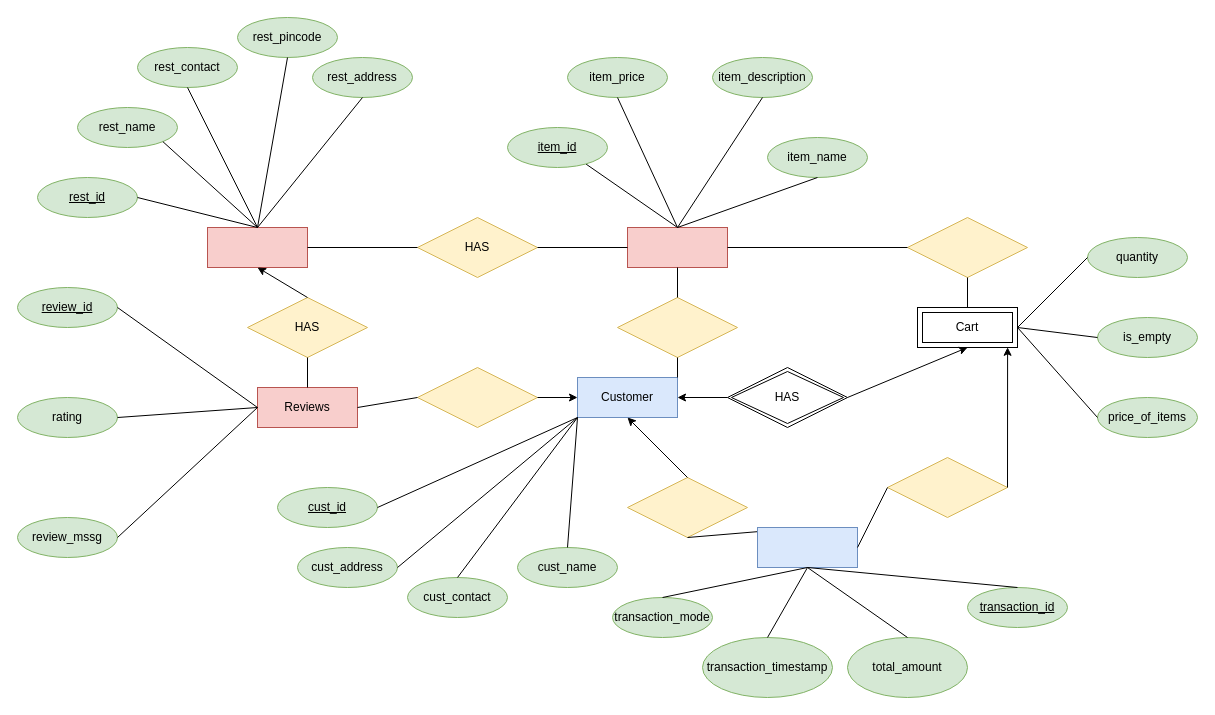
The diagram is 1215 pixels wide and 715 high, and some of its shapes have lost their labels. The box of each missing label's shape, as (x1, y1, x2, y2) in pixels:
CHECKOUT: (886, 456, 1008, 518)
GIVEN BY: (416, 366, 538, 428)
GOES TO: (906, 216, 1028, 278)
Items: (626, 226, 728, 268)
MAKES PAYMENT: (626, 476, 748, 538)
Restaurants: (206, 226, 308, 268)
SELECT: (616, 296, 738, 358)
Transaction: (756, 526, 858, 568)
